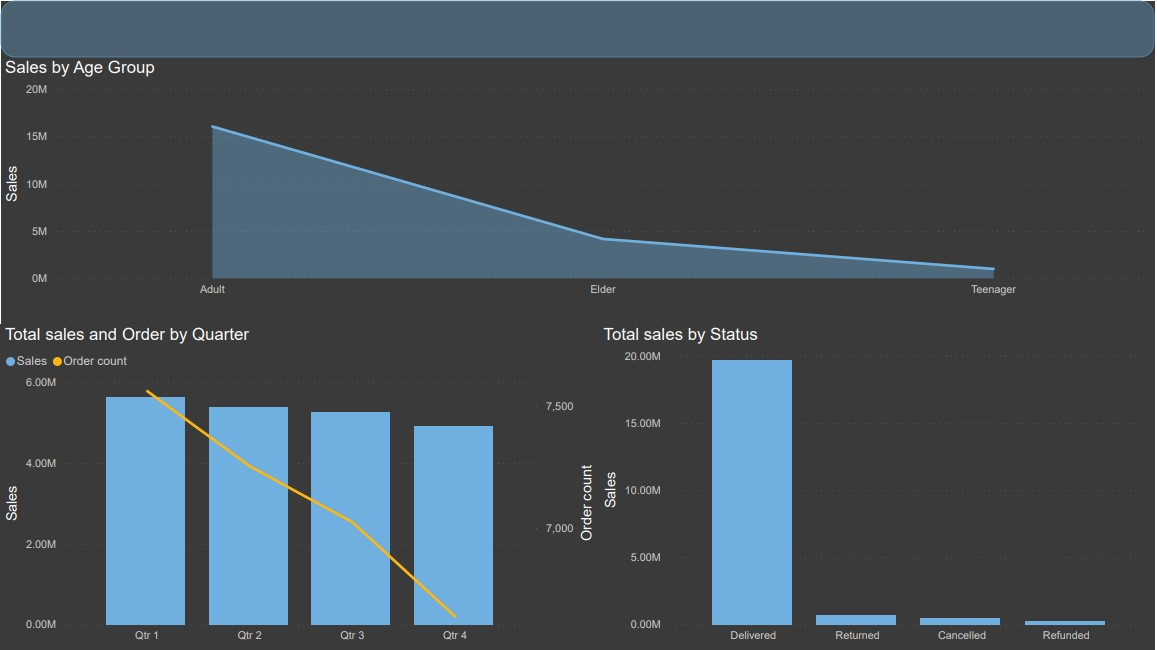

What the dashboard file says about the page in this screenshot:
{"tool":"powerbi","page":{"name":"Sales&Order","canvas":[1280,720],"ordinal":1},"visuals":[{"type":"lineClusteredColumnComboChart","title":"Total sales and Order by Quarter","fields":{"Y":["Sum(Vrinda Store.Amount)"],"Y2":["Count(Vrinda Store.Order ID)"],"Category":["Vrinda Store.Date.Variation.Date Hierarchy.Quarter"]},"box":[0,359.4,664,360.8],"z":0},{"type":"areaChart","title":"Sales by Age Group","fields":{"Category":["Vrinda Store.Age Group"],"Y":["Sum(Vrinda Store.Amount)"]},"box":[0,63.1,1280,273],"z":1000},{"type":"shape","box":[0,0,1280,63.1],"z":5000},{"type":"lineClusteredColumnComboChart","title":"Total sales by Status","fields":{"Y":["Sum(Vrinda Store.Amount)"],"Category":["Vrinda Store.Status"]},"box":[664,359.4,616,360.8],"z":5001}]}

Visuals, with their boxes in screenshot pixels (x1, y1, x2, y2), scaled from the page's 1280x720 canvas onto the 1157x650 screenshot:
"Total sales and Order by Quarter" lineClusteredColumnComboChart: <box>0,324,600,649</box>
"Sales by Age Group" areaChart: <box>0,57,1156,303</box>
shape: <box>0,0,1156,57</box>
"Total sales by Status" lineClusteredColumnComboChart: <box>600,324,1156,649</box>
